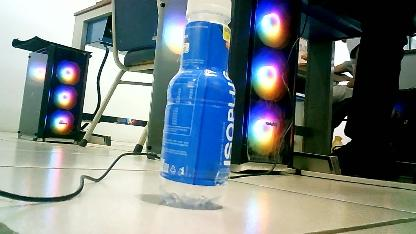Plastic Bottle: (154, 0, 238, 212)
